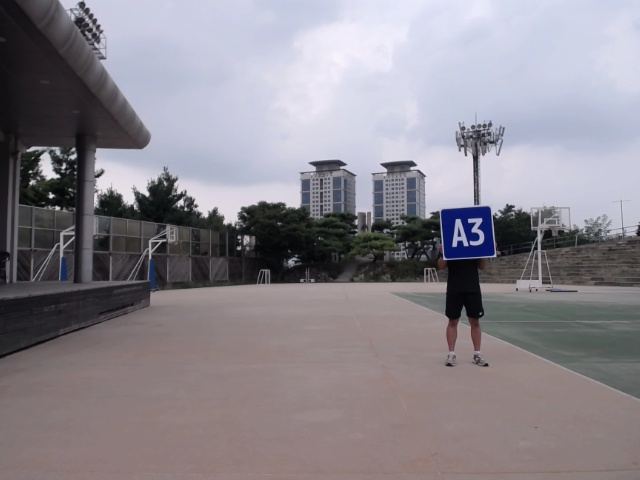delivery_a3: (439, 205, 497, 260)
